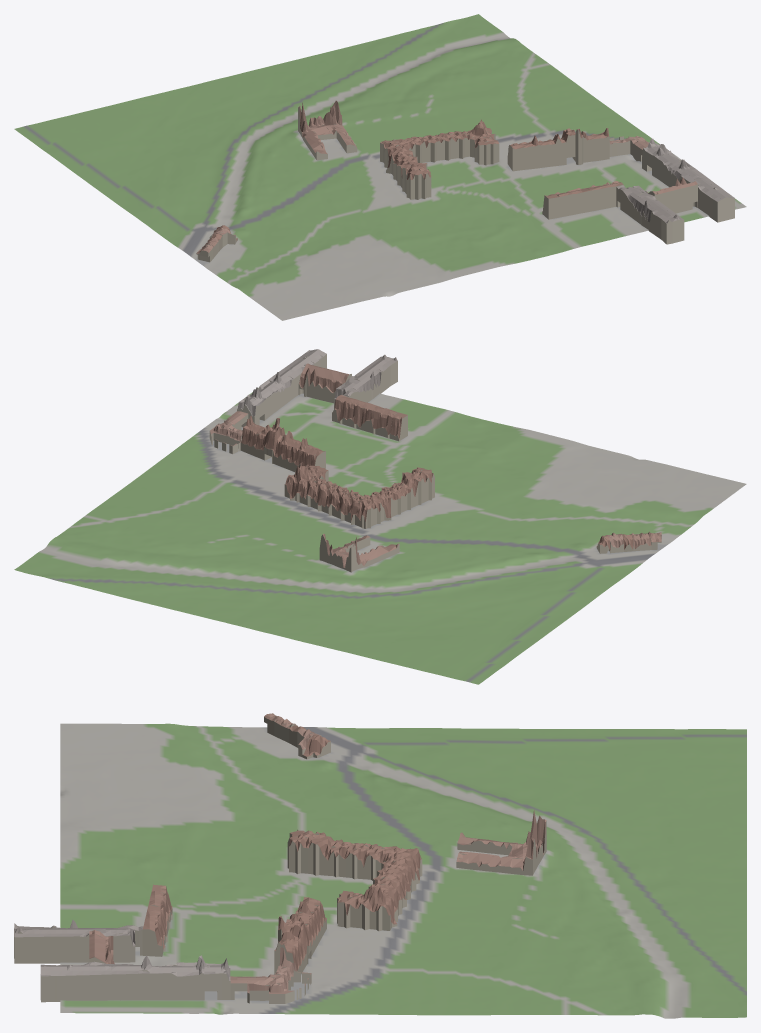
3 views of the same model, one above another, from view 1: azimuth 30°, elevation 25°; view 2: azimuth 150°, elevation 25°; view 3: azimuth 270°, elevation 25° (orthographic). The views are drawn at different scales.
Parts seen in each view (by area): view 1: ground, b:way/161063757, b:way/161063754, b:way/161063735, b:way/161063728, b:way/161063732, b:way/161063765, b:way/161063719, b:way/161063751; view 2: ground, b:way/161063757, b:way/161063754, b:way/161063735, b:way/161063732, b:way/161063728, b:way/161063765, b:way/161063719, b:way/161063751; view 3: ground, b:way/161063757, b:way/161063735, b:way/161063728, b:way/161063765, b:way/161063754, b:way/161063751, b:way/161063732, b:way/161063719, b:way/100417647.
Part boxes in pixels (x1=…): ground: x1=14, y1=14, x2=746, y2=320; b:way/161063757: x1=380, y1=119, x2=499, y2=199; b:way/161063754: x1=507, y1=128, x2=609, y2=171; b:way/161063735: x1=642, y1=138, x2=734, y2=222; b:way/161063728: x1=616, y1=185, x2=684, y2=244; b:way/161063732: x1=542, y1=181, x2=623, y2=219; b:way/161063765: x1=298, y1=100, x2=357, y2=160; b:way/161063719: x1=645, y1=177, x2=697, y2=213; b:way/161063751: x1=609, y1=136, x2=648, y2=161; ground: x1=14, y1=388, x2=746, y2=684; b:way/161063757: x1=284, y1=465, x2=434, y2=528; b:way/161063754: x1=240, y1=416, x2=325, y2=472; b:way/161063735: x1=237, y1=349, x2=326, y2=425; b:way/161063732: x1=332, y1=395, x2=407, y2=441; b:way/161063728: x1=334, y1=354, x2=397, y2=408; b:way/161063765: x1=319, y1=534, x2=399, y2=572; b:way/161063719: x1=298, y1=363, x2=351, y2=403; b:way/161063751: x1=209, y1=411, x2=248, y2=454; ground: x1=60, y1=723, x2=746, y2=1018; b:way/161063757: x1=287, y1=830, x2=422, y2=931; b:way/161063735: x1=40, y1=955, x2=230, y2=1002; b:way/161063728: x1=14, y1=919, x2=143, y2=963; b:way/161063765: x1=456, y1=810, x2=546, y2=875; b:way/161063754: x1=274, y1=897, x2=326, y2=974; b:way/161063751: x1=230, y1=947, x2=311, y2=1003; b:way/161063732: x1=142, y1=884, x2=172, y2=956; b:way/161063719: x1=89, y1=930, x2=114, y2=964; b:way/100417647: x1=302, y1=734, x2=330, y2=759.
Size of the model in its own units: 250 by 20.56 by 267.
